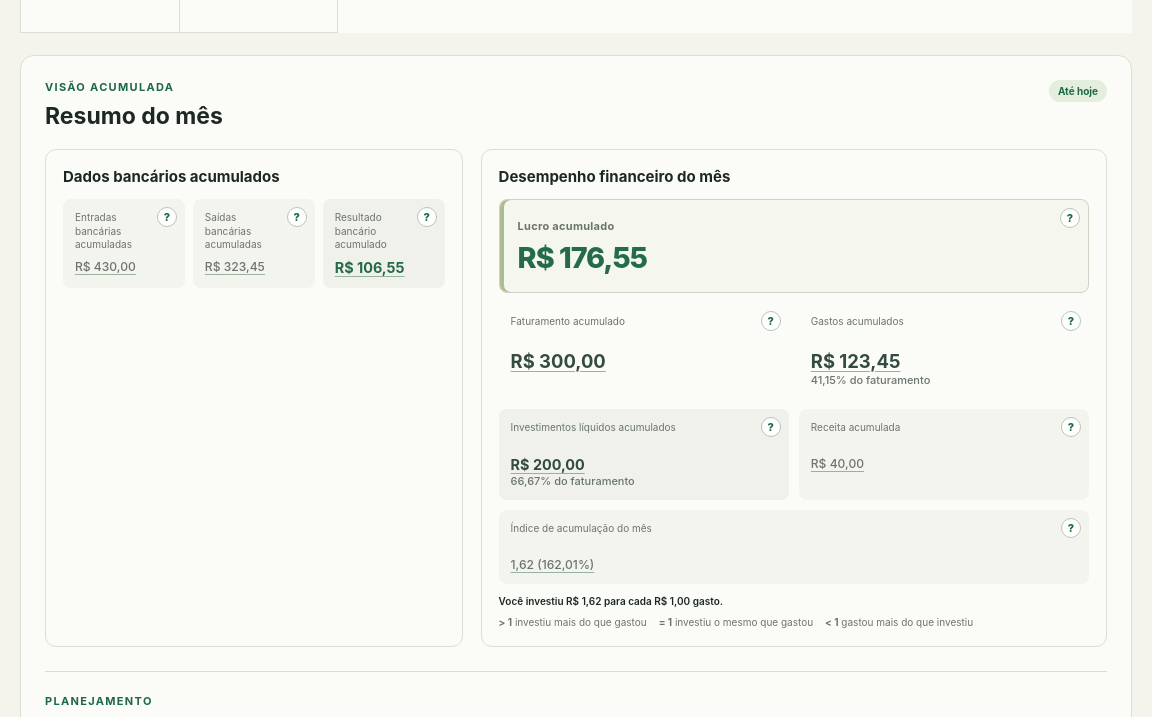
detalhamento dos indicadores acumulados › detalha faturamento e receita exclusivamente pela classificação financeira
(page scrolled)
Click the button "R$ 300,00": (558, 361) [507,346,610,376]
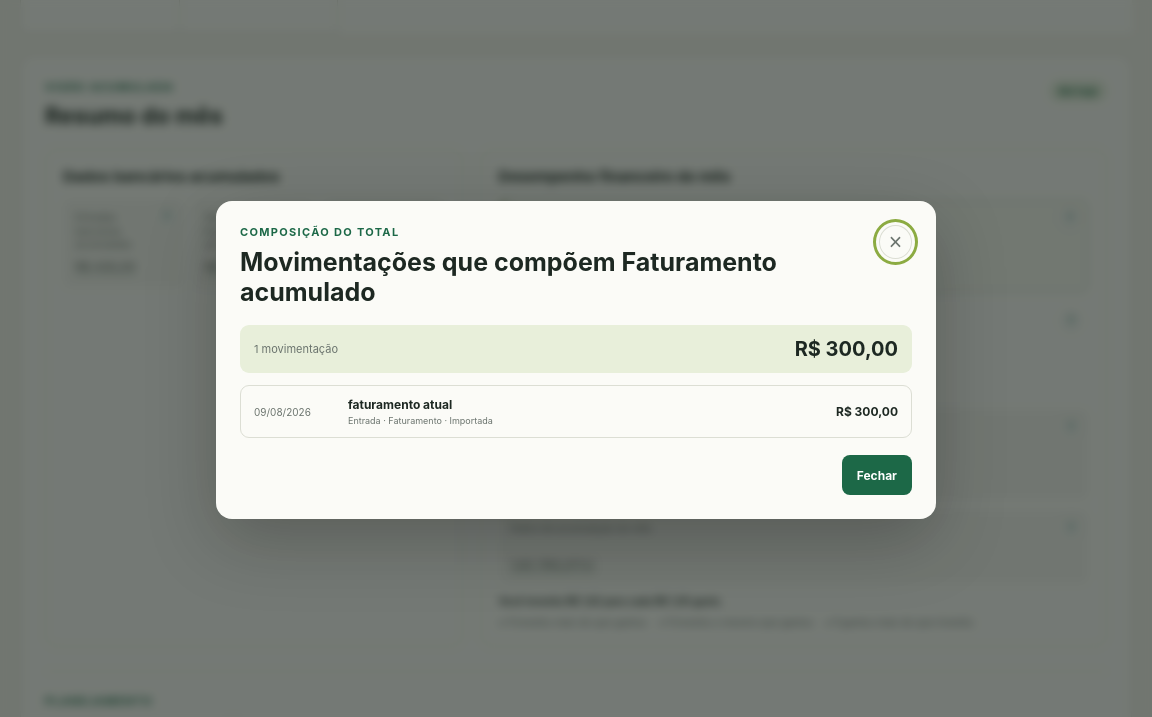
Check: the dialog shows "Movimentações que compõem Faturamento acumulado", box [240,247,777,307]
Check: the dialog shows "faturamento atual", box [348,397,452,412]
Check: the text "R$ 300,00" in the row of "movimentação" is shown, box [795,337,898,361]
Click the button "Fechar": (877, 475) [842,455,912,495]
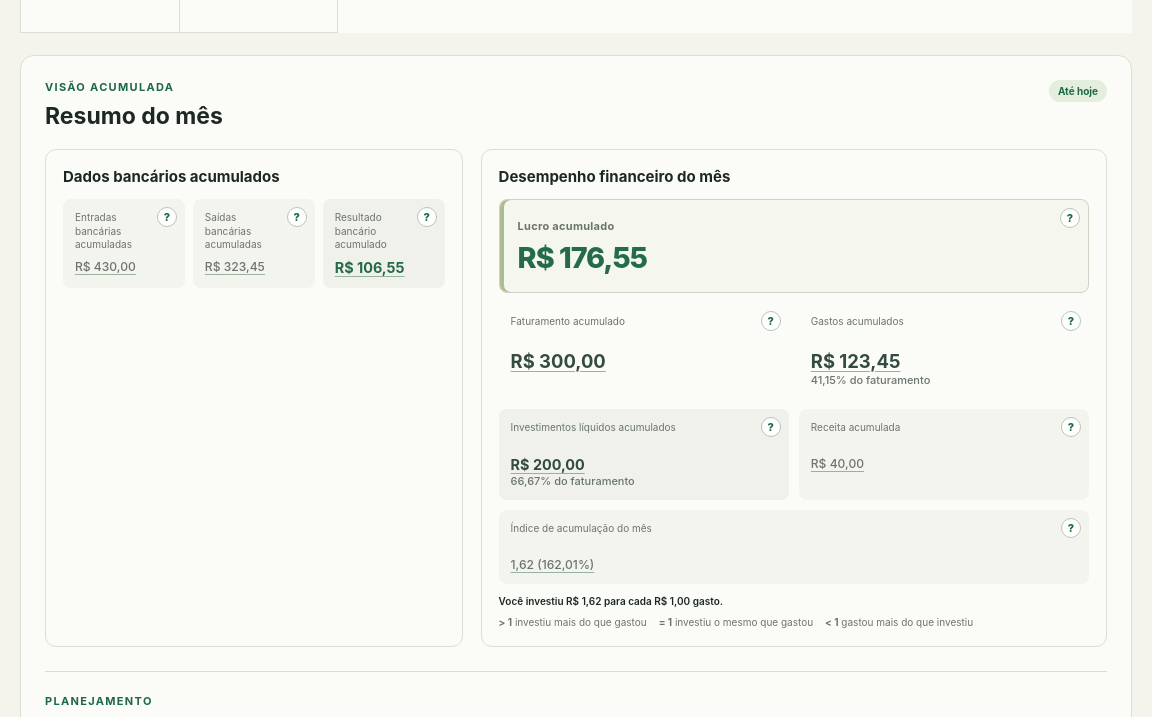
Click the button "R$ 40,00": (837, 463) [807,452,868,475]
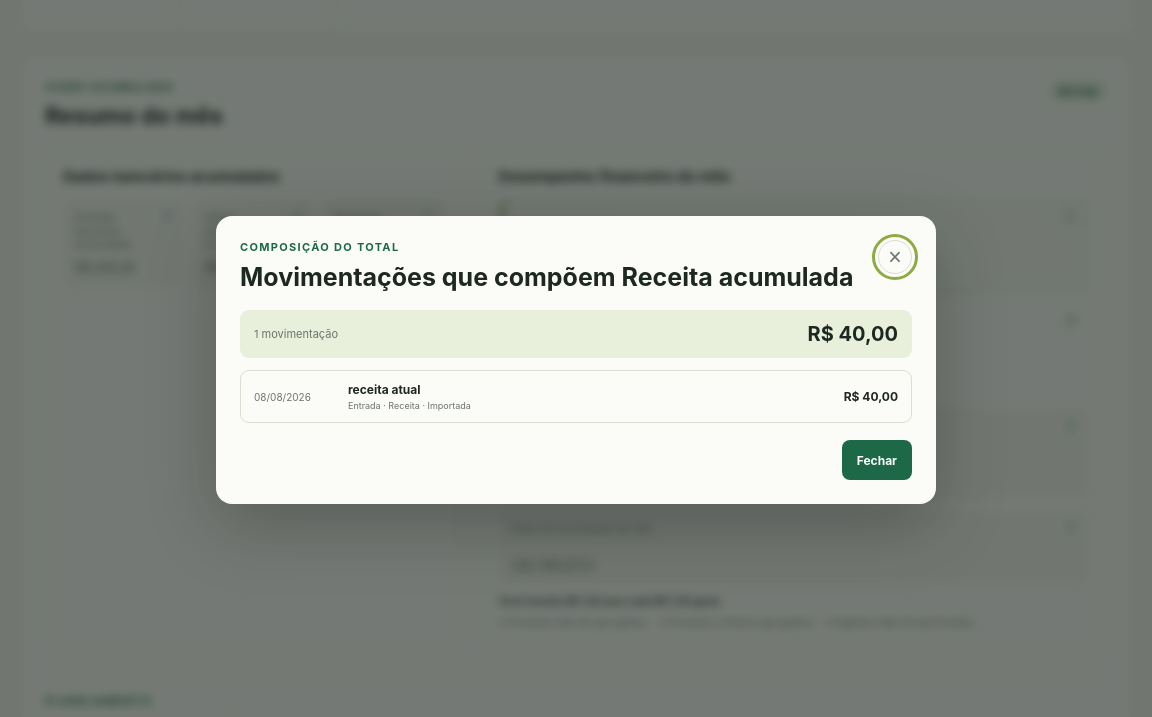
Check: the dialog shows "Movimentações que compõem Receita acumulada", box [240,262,853,292]
Check: the dialog shows "receita atual", box [348,382,420,397]
Check: the text "R$ 40,00" in the row of "movimentação" is shown, box [808,322,898,346]
